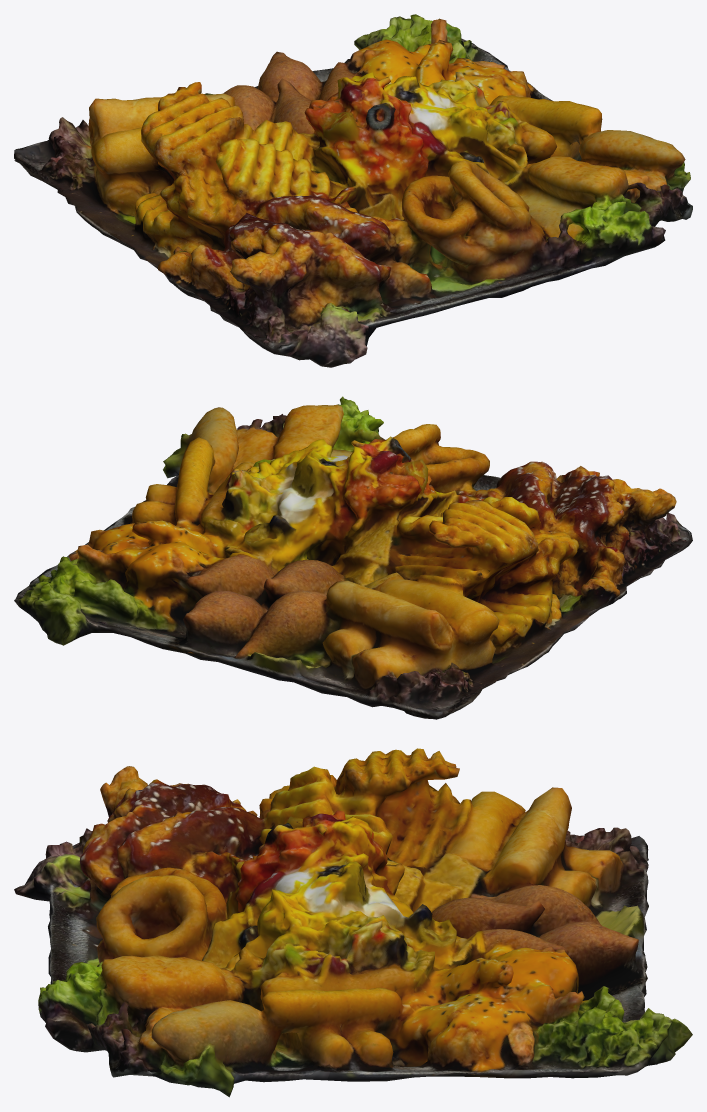
Rendered from foodPlatter_1752057967759.glb.
3 views of the same model, one above another, from view 1: azimuth 30°, elevation 25°; view 2: azimuth 150°, elevation 25°; view 3: azimuth 270°, elevation 25° (orthographic). The views are drawn at different scales.
Visible parts, largest first — view 1: 3DModel_Custom; view 2: 3DModel_Custom; view 3: 3DModel_Custom.
Part boxes in pixels (<box>): 3DModel_Custom: <box>14,14,692,367</box>; 3DModel_Custom: <box>14,396,692,719</box>; 3DModel_Custom: <box>14,748,692,1097</box>.
Size of the model in its own units: 0.325 by 0.095 by 0.3488.
Materials: 1 (1 with a texture image).
